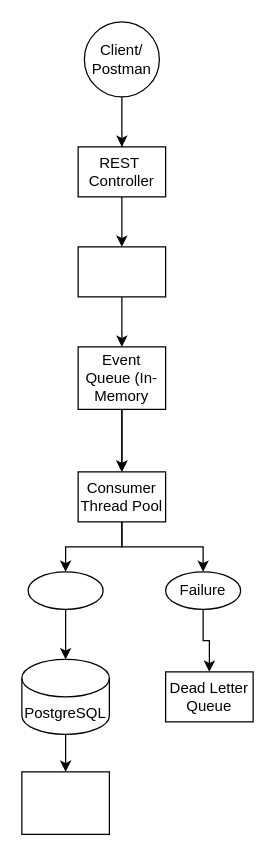
This 275x856 diagram has some shape labels left out. Each missing label, with the centre of its shape:
"Event Producer" belongs at (x=121, y=271).
"Recovery Engine (on restart)" belongs at (x=65, y=802).
"Success" belongs at (x=65, y=590).
